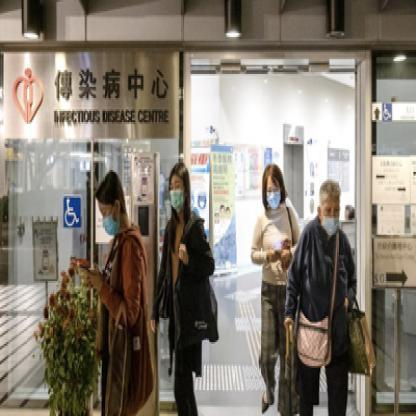with_mask: (321, 198, 339, 238), (168, 174, 185, 211), (98, 203, 114, 235), (265, 179, 280, 209)
